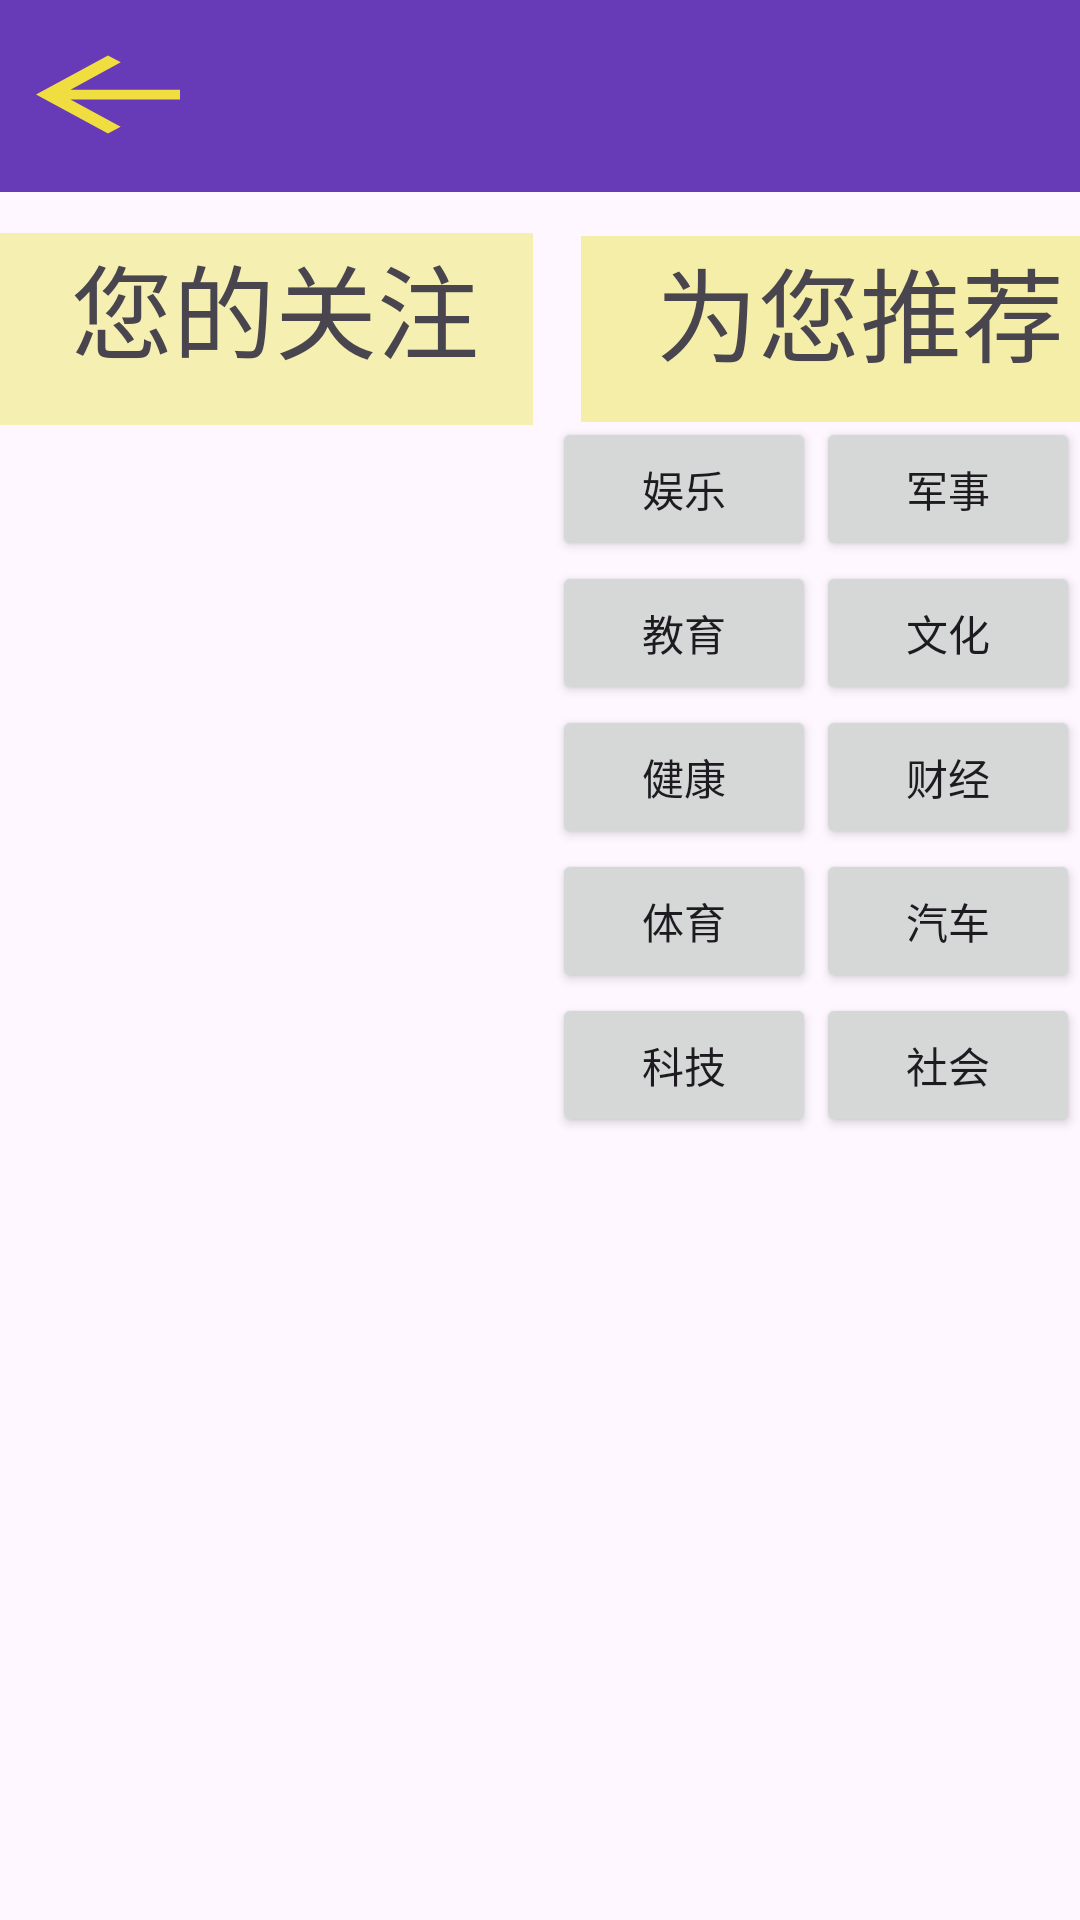

Icons on this 1080 × 1920 Android screen, each with the point to tap as (x,y):
return: (108,94)
